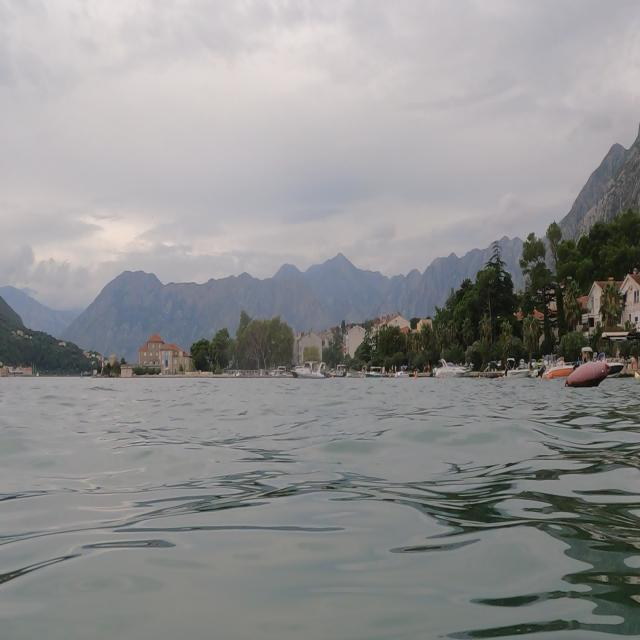boat: (287, 354, 335, 394), (429, 353, 469, 387)
buoy: (565, 354, 614, 399)
